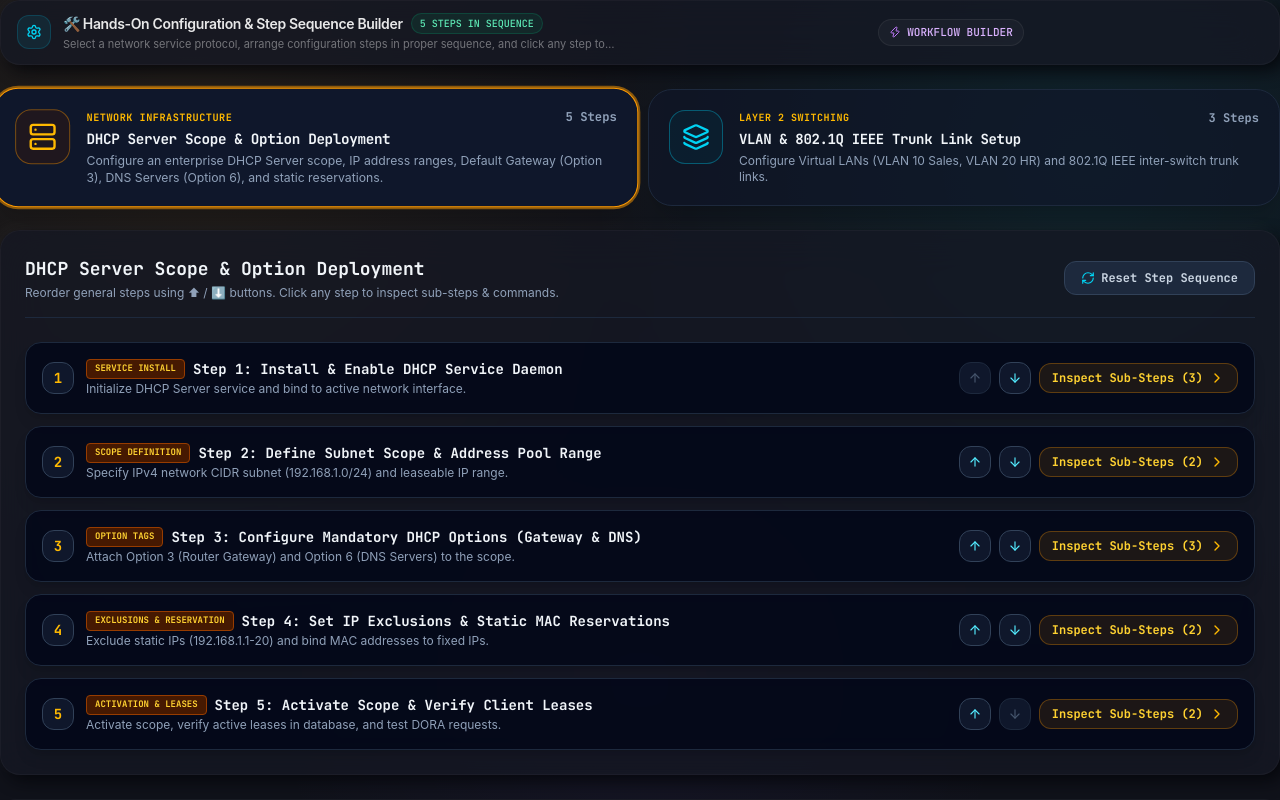
it: ConfigureModule Component › opens sub-steps modal when a step is clicked
Click the heading "Step 1: Install & Enable DHCP Service Daemon".
click(378, 369)  # box [193,359,563,379]
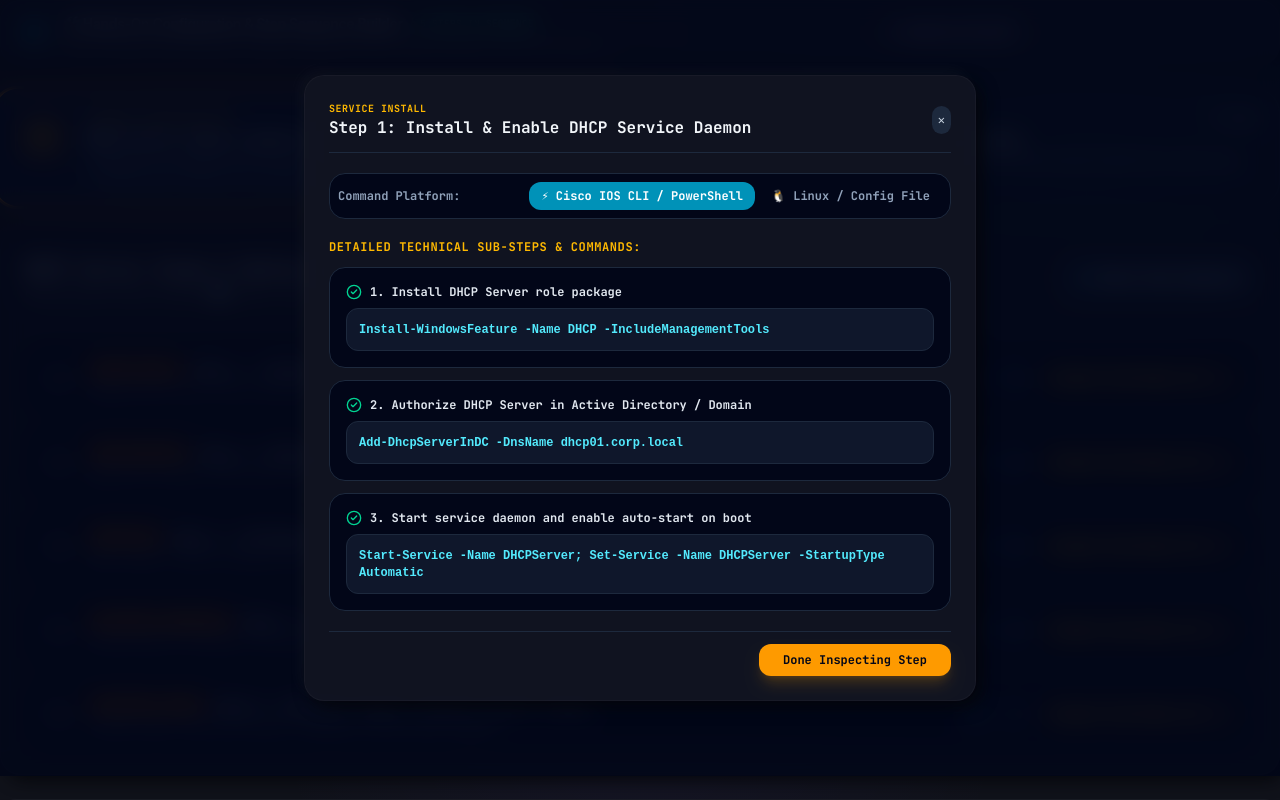
Expected: the heading "Detailed Technical Sub-Steps & Commands:" is shown, [329,239,641,255]
Expected: the text "1. Install DHCP Server role package" is shown, [370,284,622,300]
